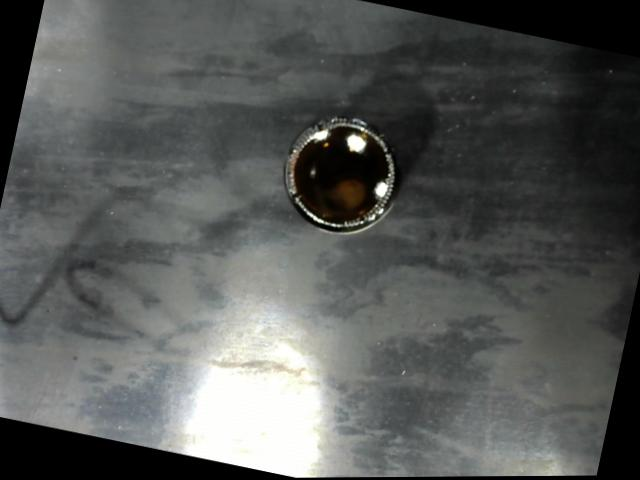glass: (278, 105, 416, 242)
